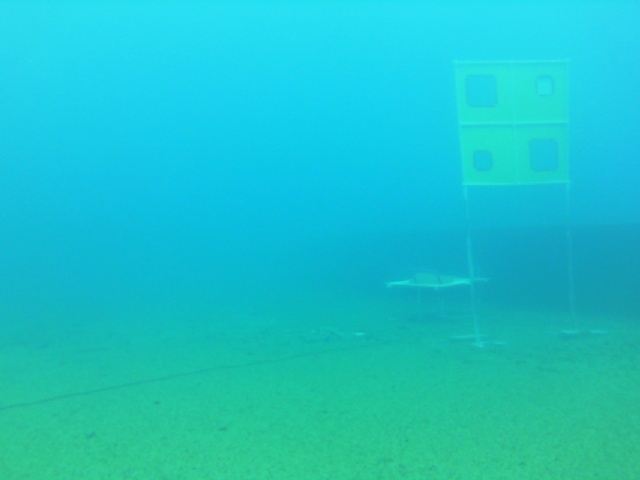torpedo_cover: (536, 78, 556, 101)
torpedo_hole: (527, 137, 561, 174), (465, 76, 498, 110), (535, 77, 558, 103), (475, 149, 496, 172)
torpedo_target: (450, 60, 571, 187)
